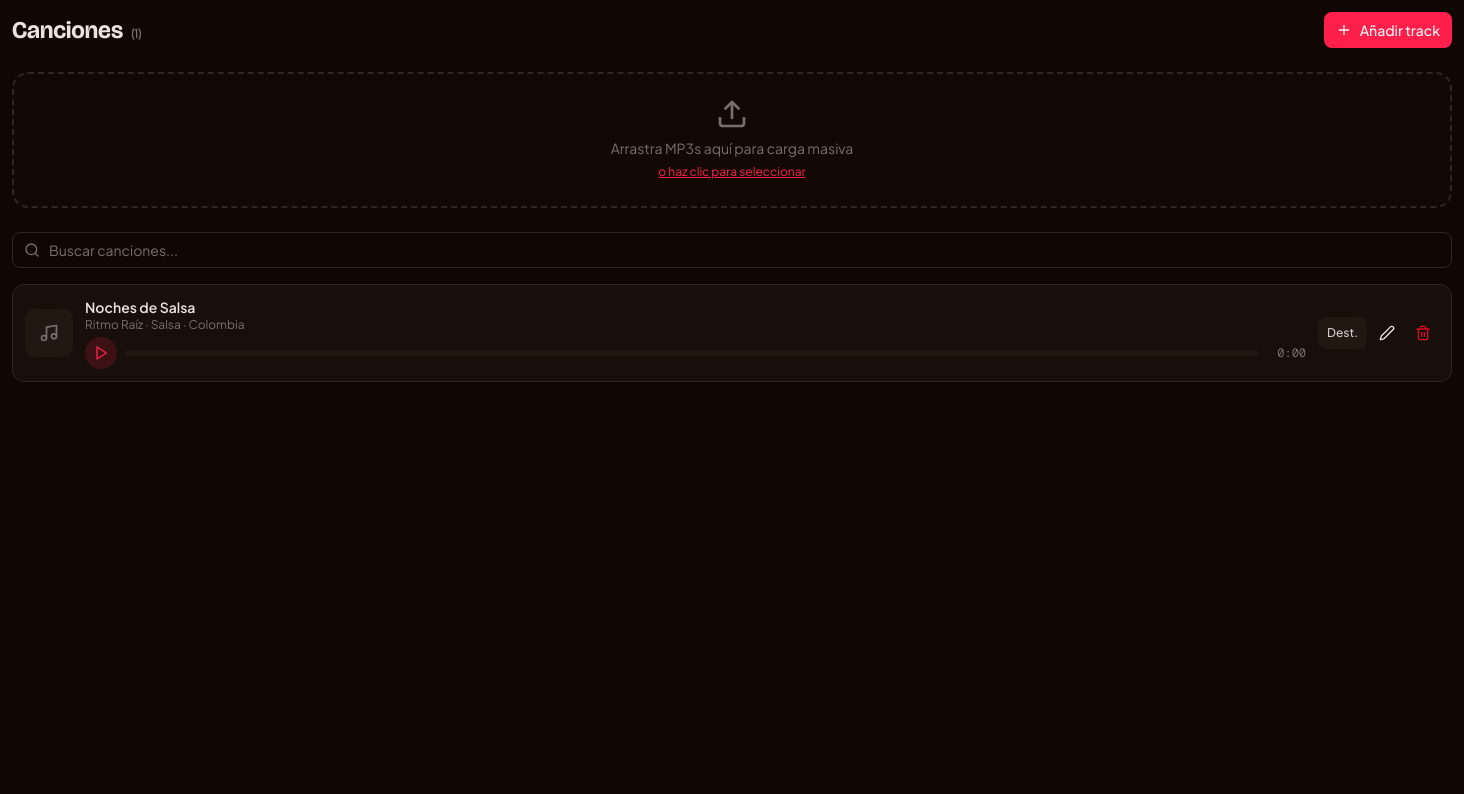
TracksPanel flag controls › opens the editor pre-filled with the track's current flags
Click the button with test id "admin.edit_track_button.1" at (1387, 333), box [1371, 317, 1403, 349]
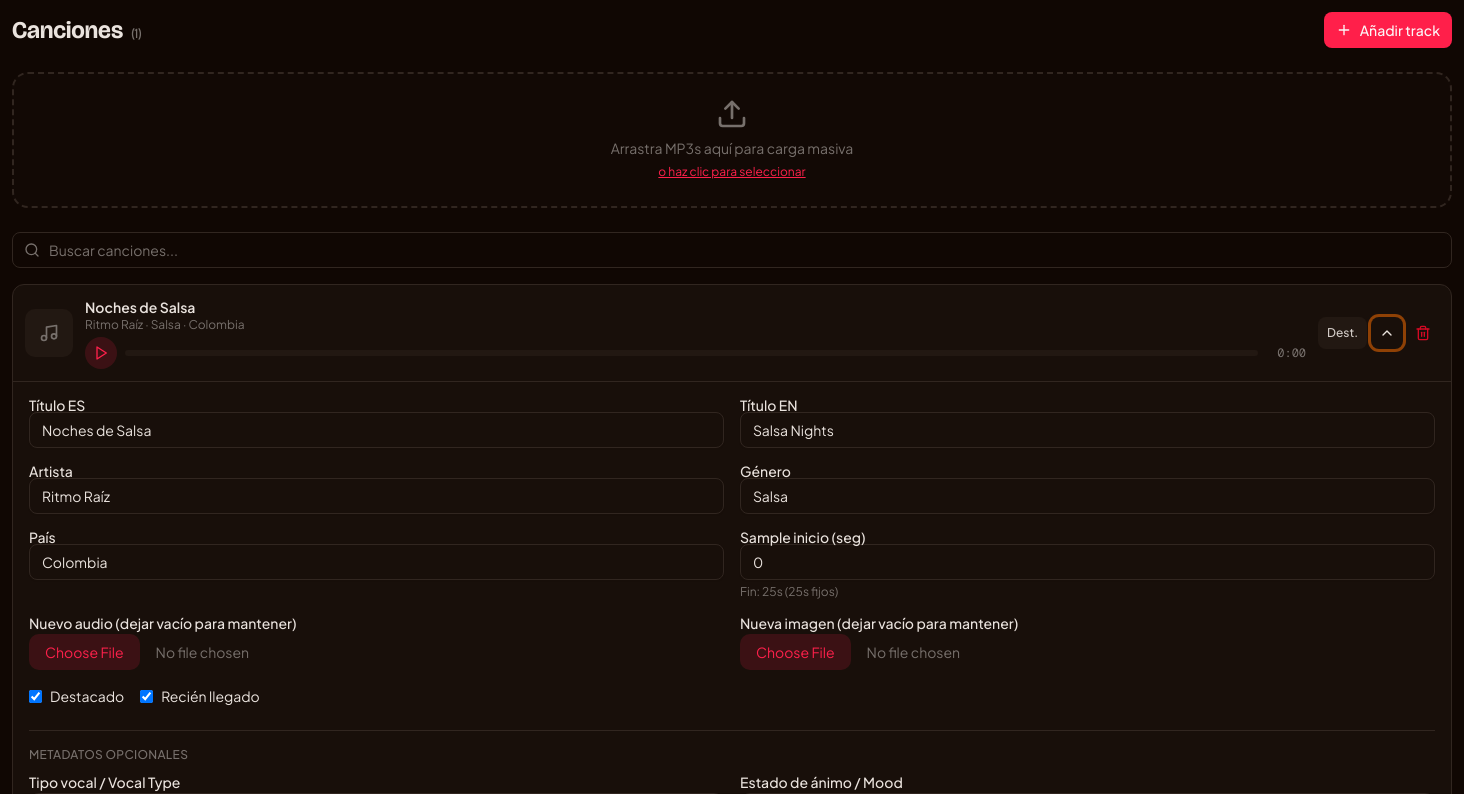
Expected: the checkbox with test id "admin.track_edit.1.featured_checkbox" is checked, [29, 690, 42, 702]
Expected: the checkbox with test id "admin.track_edit.1.new_arrival_checkbox" is checked, [140, 690, 153, 702]
